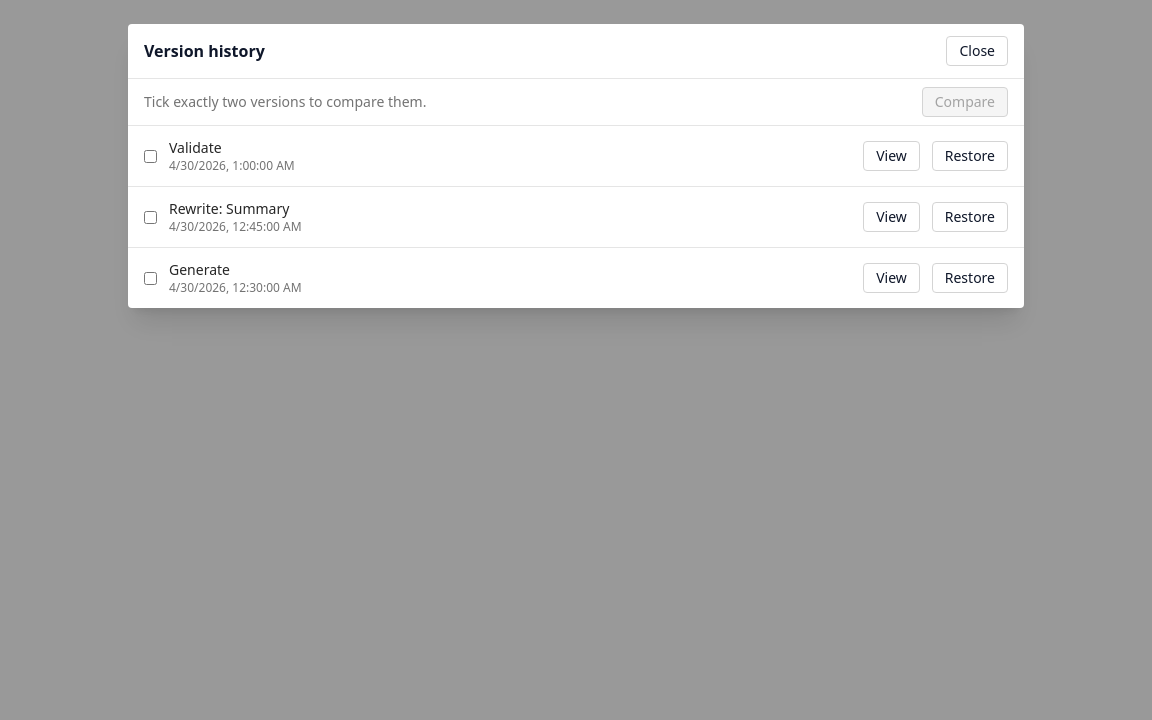
Test: VersionHistoryPanel — diff view › Compare button is disabled until exactly two versions are selected
The image size is (1152, 720).
Expected: the button "Compare" is disabled, [922,87,1008,117]
Click the checkbox named "select for compare": (150, 156) [144,150,157,162]
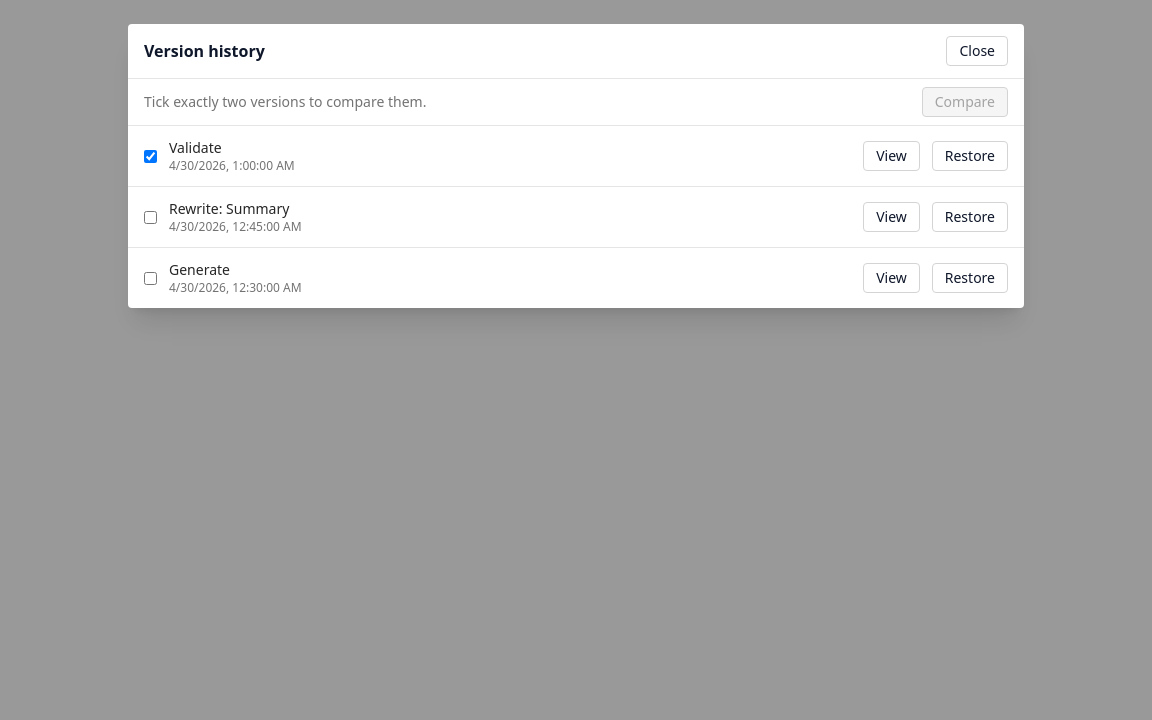
Expected: the button "Compare" is disabled, [922,87,1008,117]
Click the checkbox named "select for compare": (150, 217) [144,210,157,224]
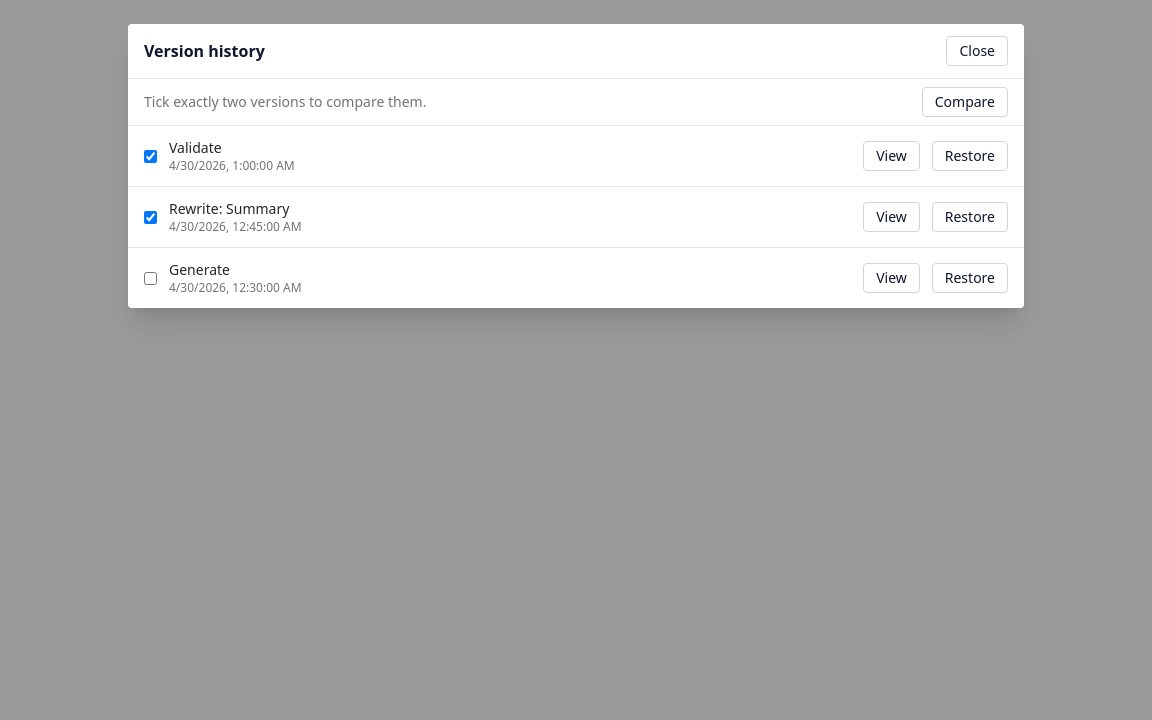
Expected: the button "Compare" is enabled, [922,87,1008,117]
Click the checkbox named "select for compare": (150, 278) [144,272,157,284]
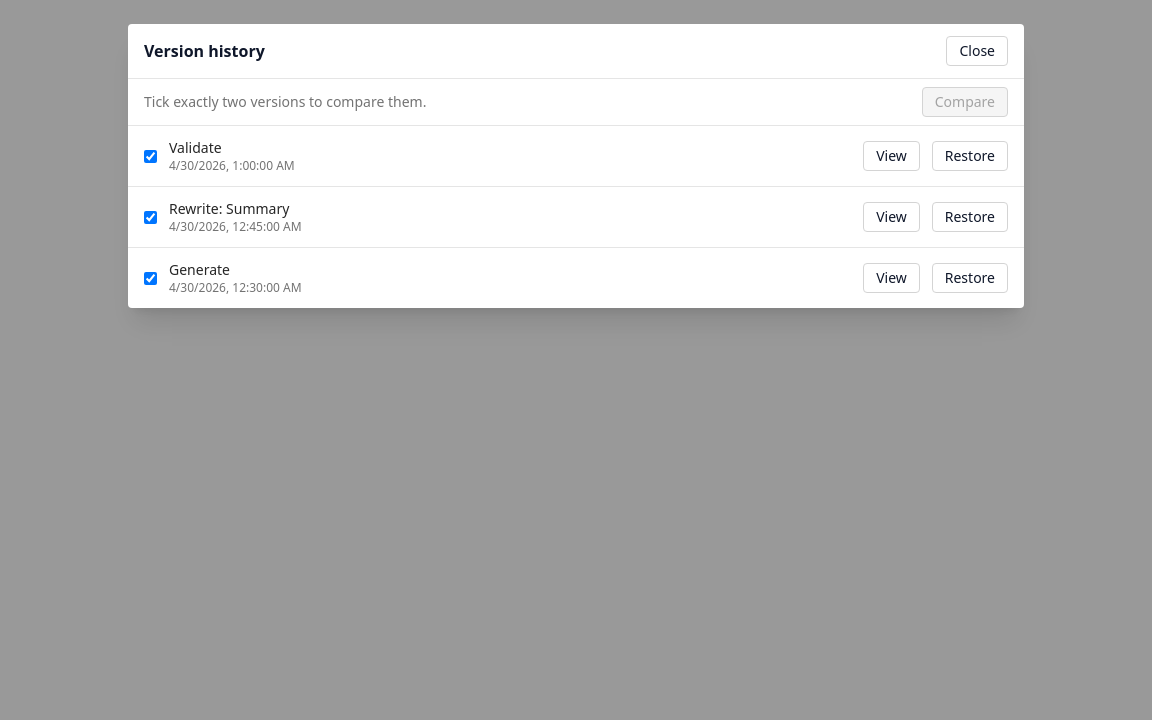
Expected: the button "Compare" is disabled, [922,87,1008,117]
